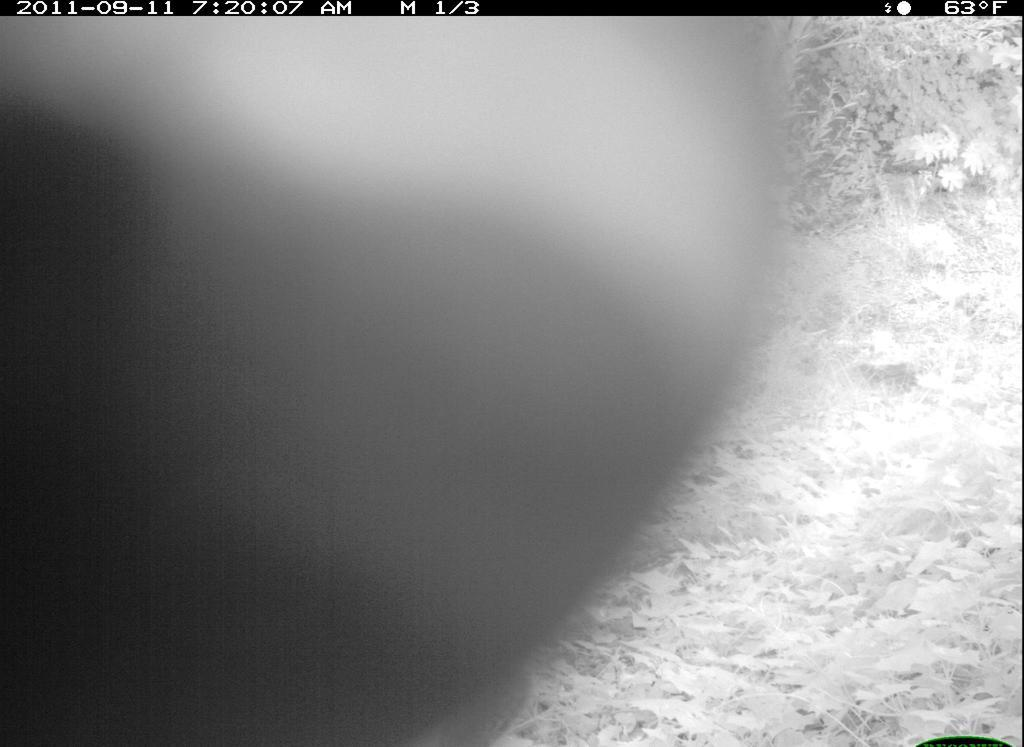squirrel: (1, 18, 812, 747)
